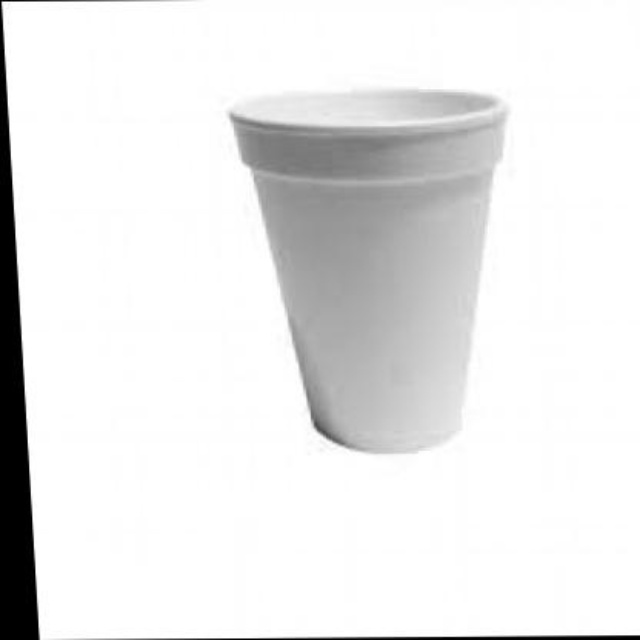trash: (231, 89, 505, 451)
